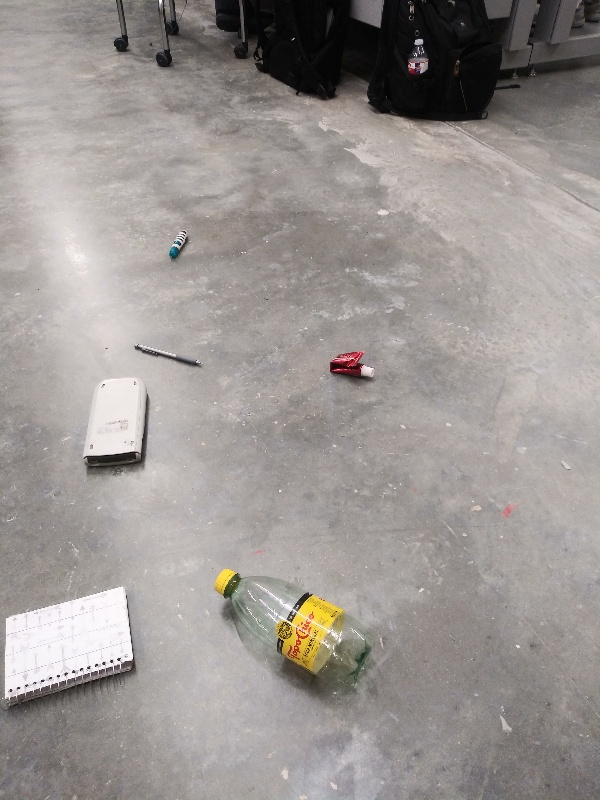bottle: (209, 563, 392, 701)
